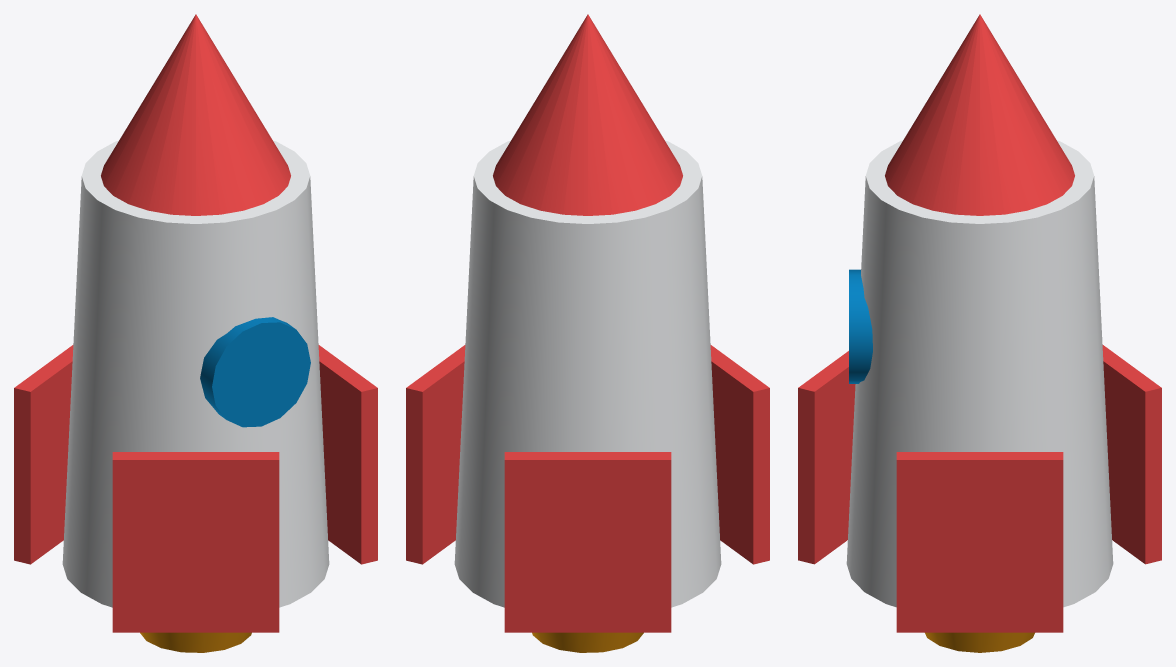
File: rocket.glb
3 views of the same model, side by side, from view 1: azimuth 30°, elevation 25°; view 2: azimuth 150°, elevation 25°; view 3: azimuth 270°, elevation 25° (orthographic).
Visible parts, largest first — view 1: Rocket; view 2: Rocket; view 3: Rocket.
Part boxes in pixels (x1,y1,x2,y2): Rocket: (14,14,377,652); Rocket: (406,14,769,652); Rocket: (798,14,1161,652).
Size of the model in its own units: 0.6616 by 1.42 by 0.7639.
